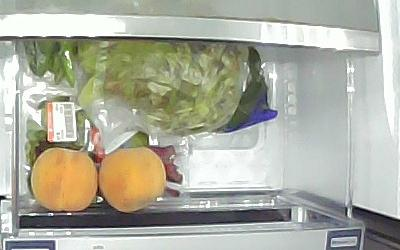peach: (99, 147, 166, 213), (30, 147, 98, 212)
